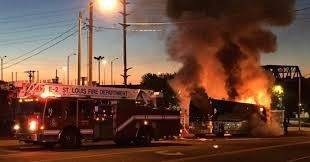fire: (235, 81, 274, 111), (91, 0, 122, 13)
